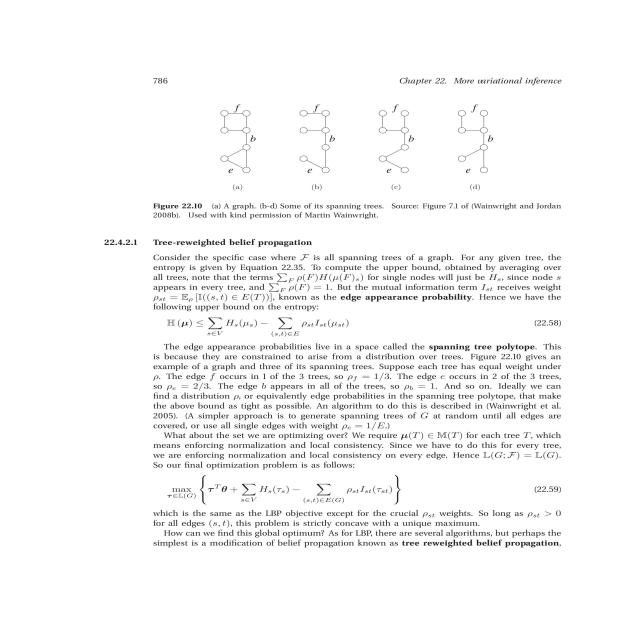diagram: (143, 89, 583, 228)
